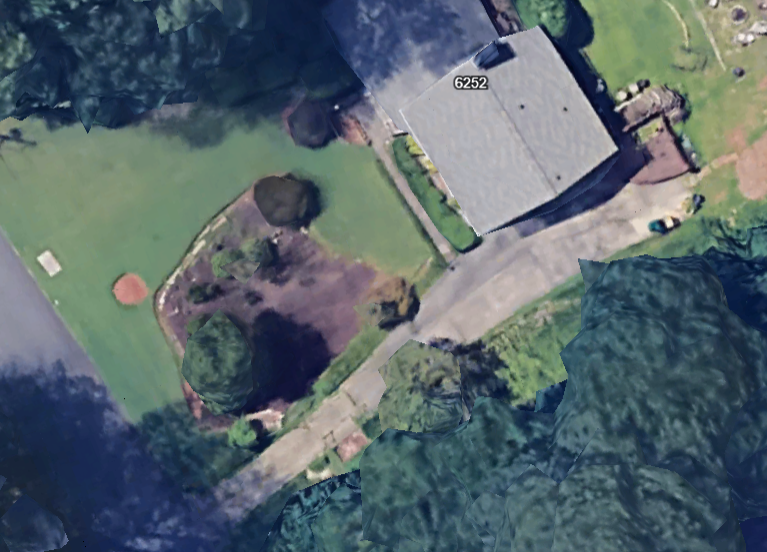driveway: (180, 117, 711, 523)
